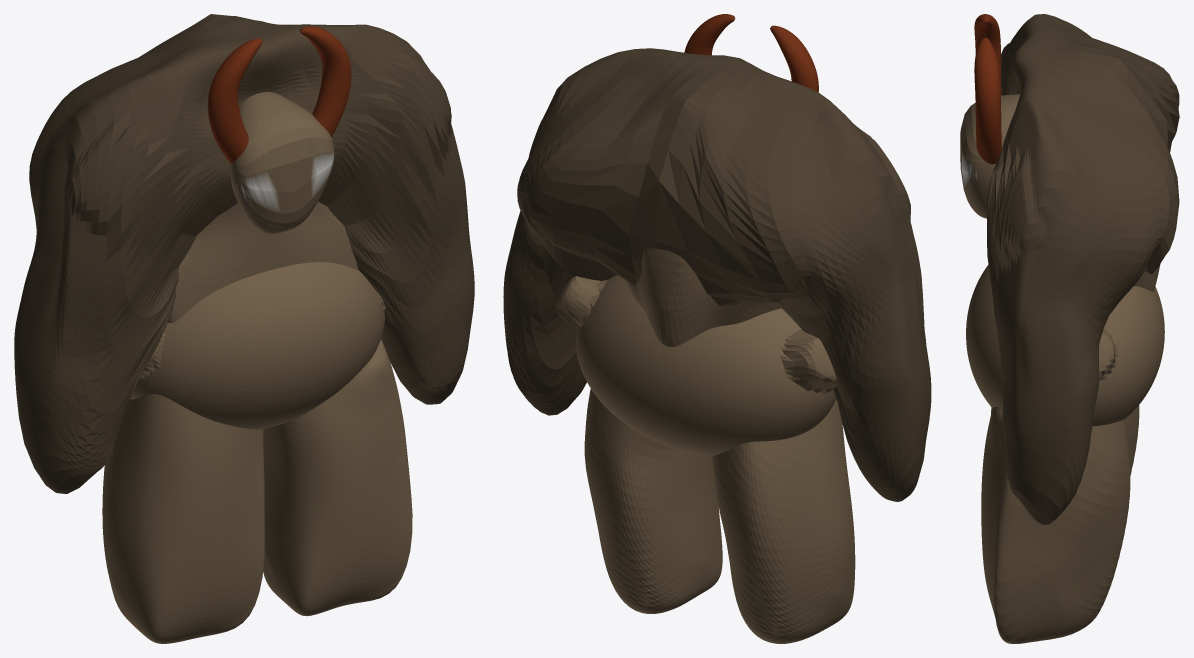
The model's file is monster.fbx.
The picture shows the model from 3 angles, left to right: view 1: azimuth 30°, elevation 25°; view 2: azimuth 150°, elevation 25°; view 3: azimuth 270°, elevation 25°; orthographic projection. The views are drawn at different scales.
Parts seen in each view (by area): view 1: Sphere; view 2: Sphere; view 3: Sphere.
Part boxes in pixels (x1,y1,x2,y2): Sphere: (14, 14, 474, 643); Sphere: (503, 14, 931, 643); Sphere: (960, 14, 1179, 643).
Size of the model in its own units: 1342 by 1776 by 619.
